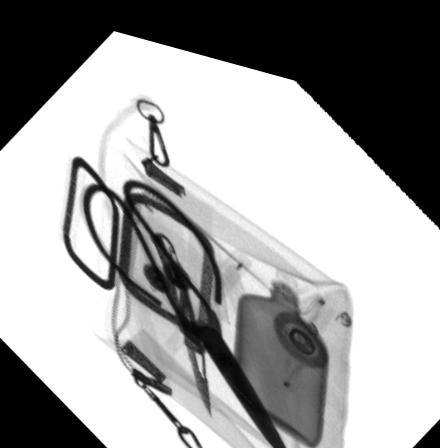Knife: (149, 223, 211, 407)
Scissors: (78, 169, 294, 448)
